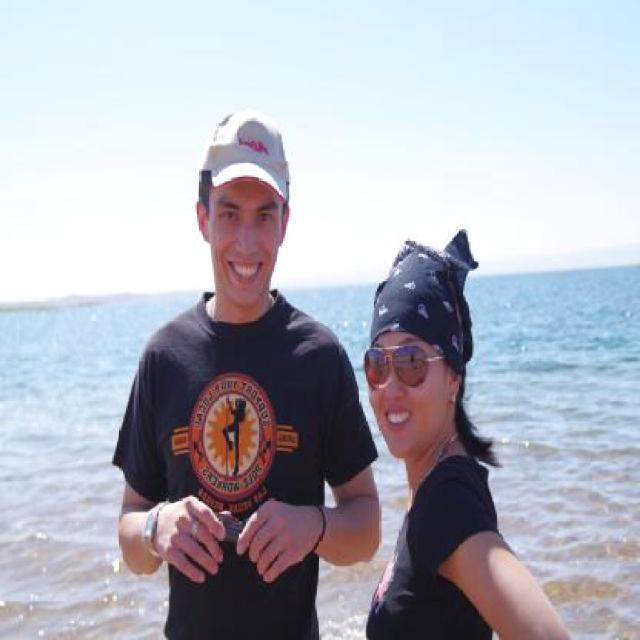face_nomask: (367, 338, 441, 431), (212, 191, 280, 283)
glasses: (368, 344, 454, 398)
hand_noglove: (160, 492, 232, 588), (236, 494, 313, 580)
head_nohelmet: (133, 104, 339, 640), (369, 234, 473, 361), (195, 104, 293, 210)
person: (363, 227, 561, 640)
